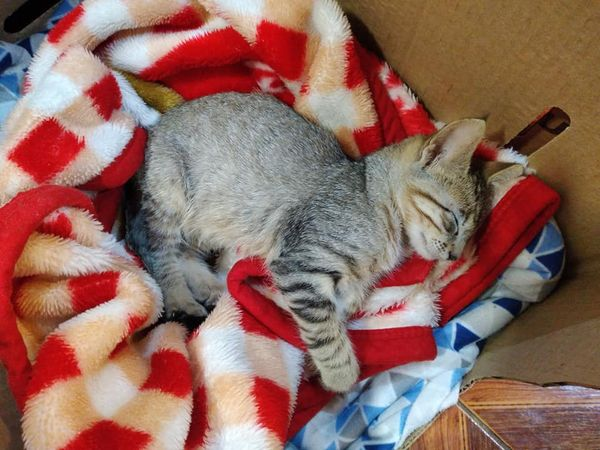cat: (117, 85, 506, 396)
